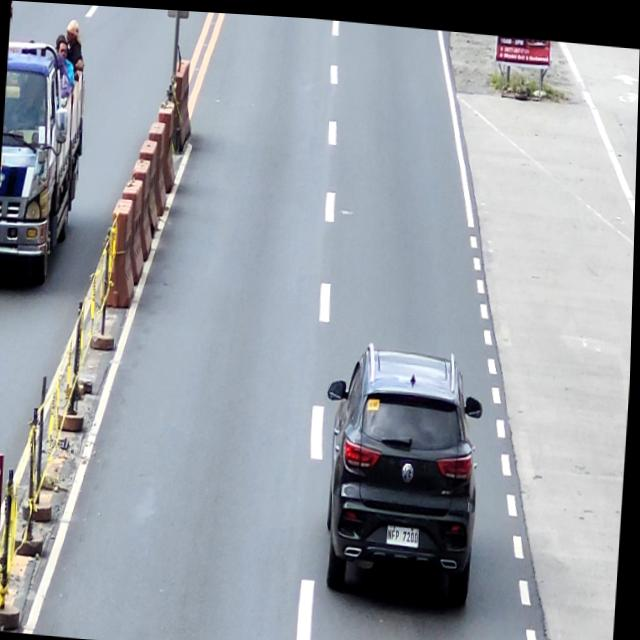Car: (316, 327, 490, 612)
License-Plate: (388, 517, 423, 545)
Truck: (0, 38, 92, 286)
